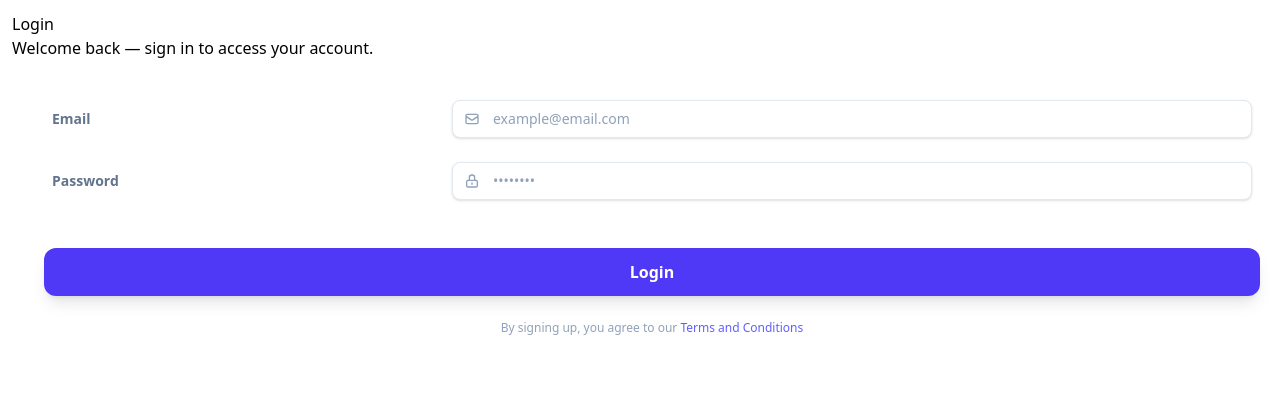
Scenario: LoginPage Component › should show error if form is submitted empty
Click the button "Login". click: [652, 272]
box: [44,248,1260,296]
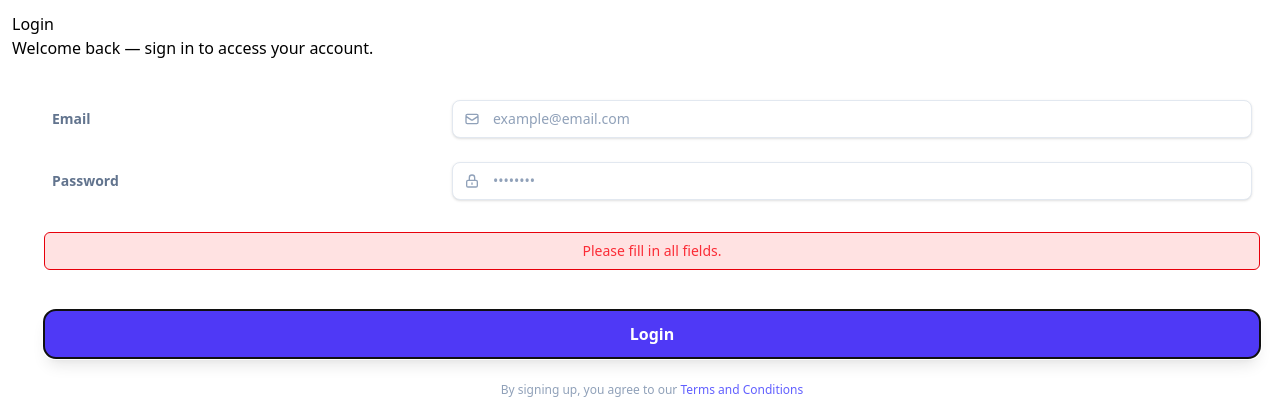
Check: the text "Please fill in all fields." is shown, box [44,232,1260,270]
